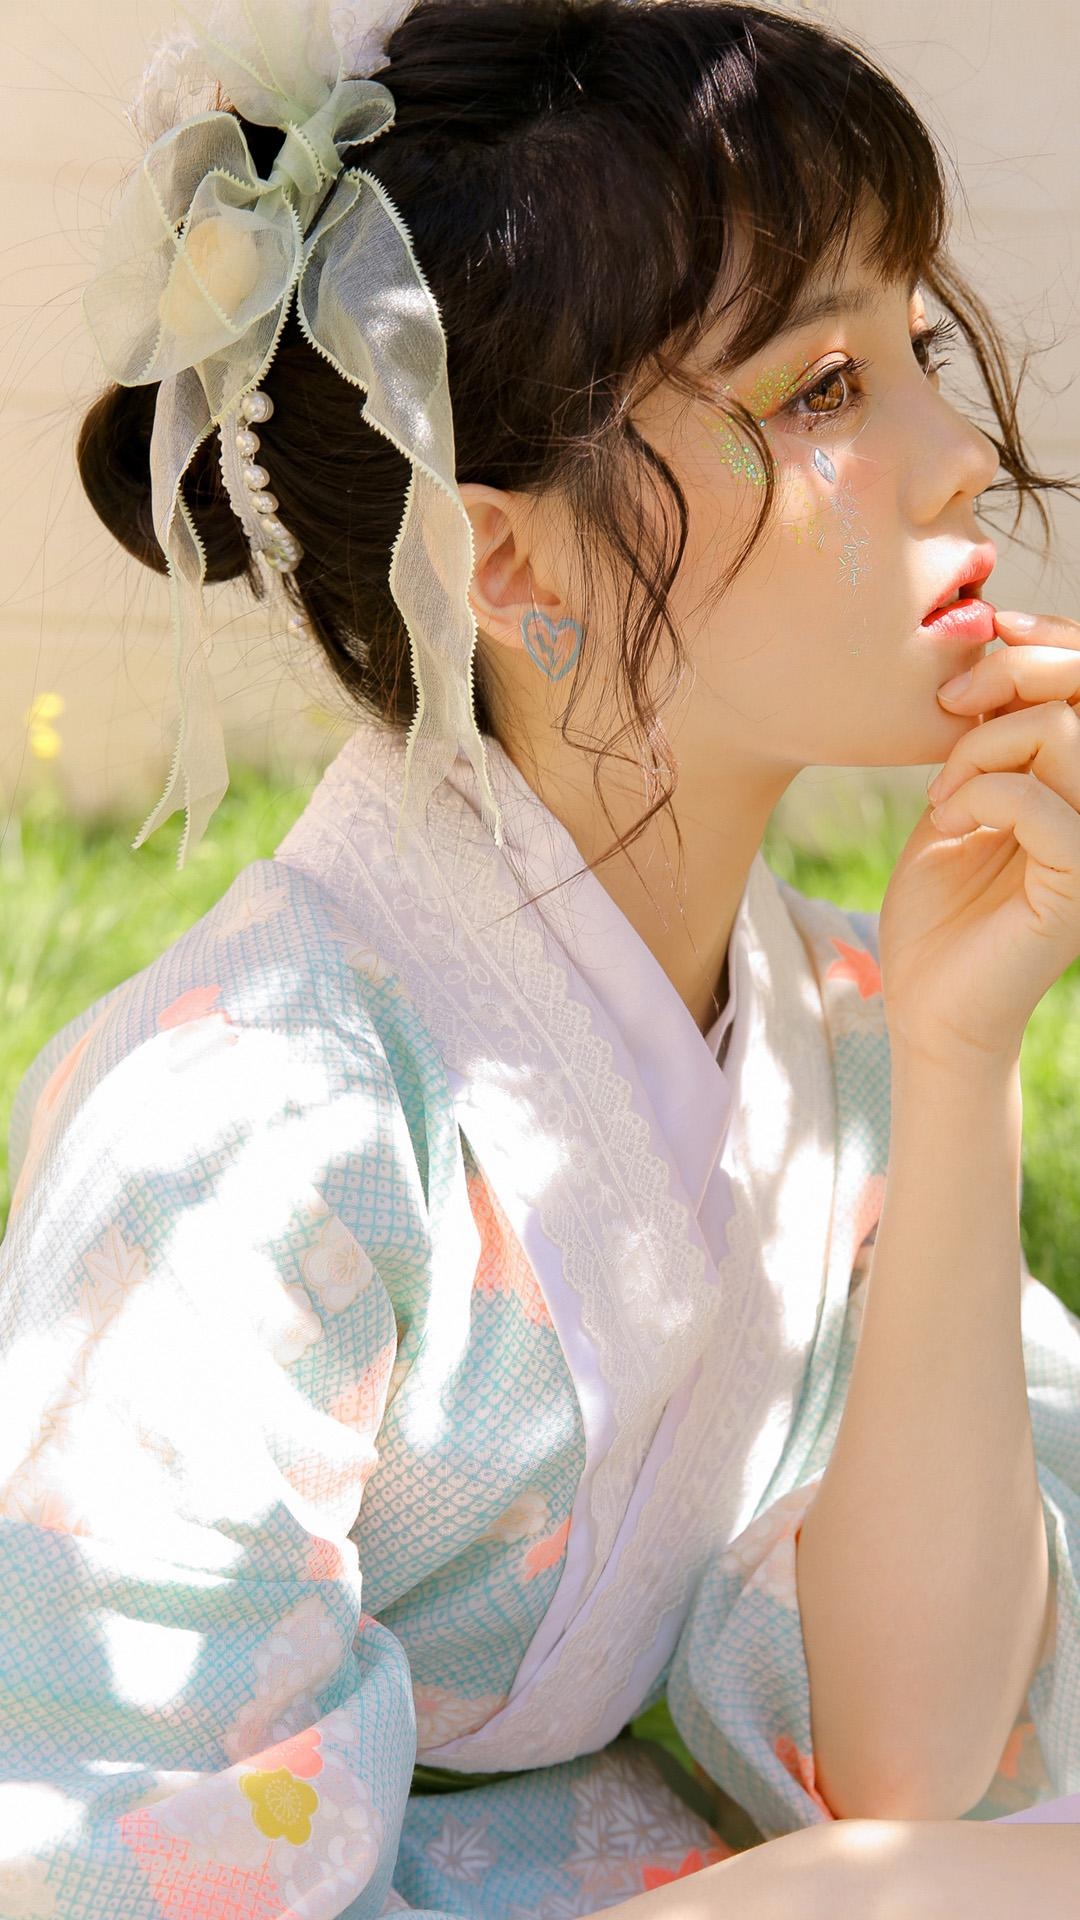person: (40, 65, 973, 1627)
